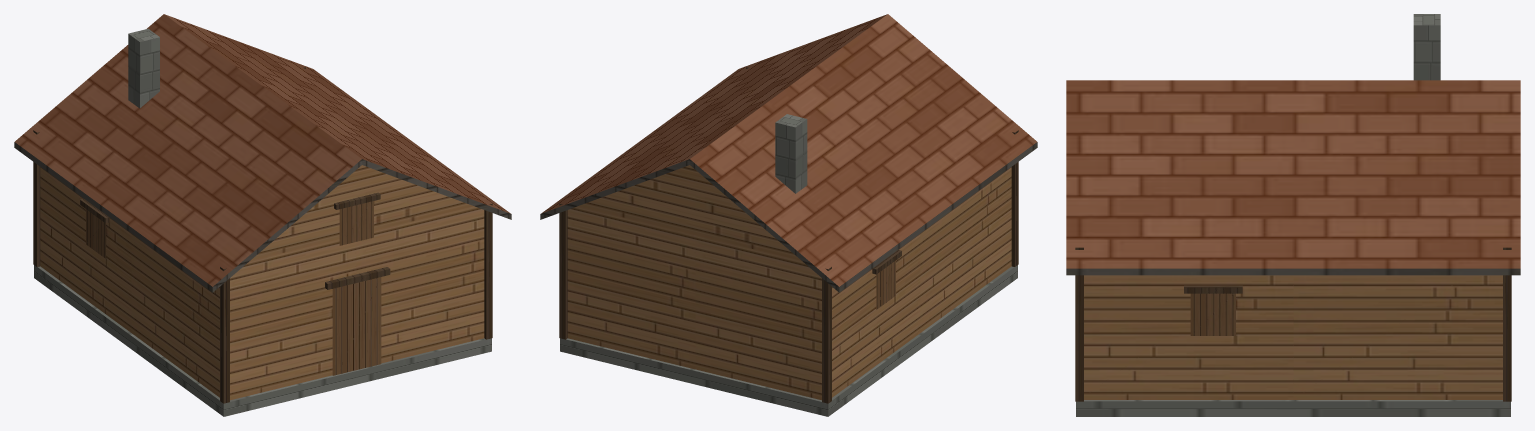
Rendered from ae_sand_wood_large_barn_lod1.glb.
3 renders of one model, left to right at view 1: azimuth 30°, elevation 25°; view 2: azimuth 150°, elevation 25°; view 3: azimuth 270°, elevation 25°, orthographic. The views are drawn at different scales.
Parts seen in each view (by area): view 1: ae_sand_wood_large_barn_lod1; view 2: ae_sand_wood_large_barn_lod1; view 3: ae_sand_wood_large_barn_lod1.
Boxes of the visible parts, x1,y1,x2,y2 form: ae_sand_wood_large_barn_lod1: (14,14,511,416); ae_sand_wood_large_barn_lod1: (540,14,1037,416); ae_sand_wood_large_barn_lod1: (1066,14,1520,416).
Bounding box in the file's own units: 7.4 × 5.95 × 8.5.
Materials: 1 (1 with a texture image).
